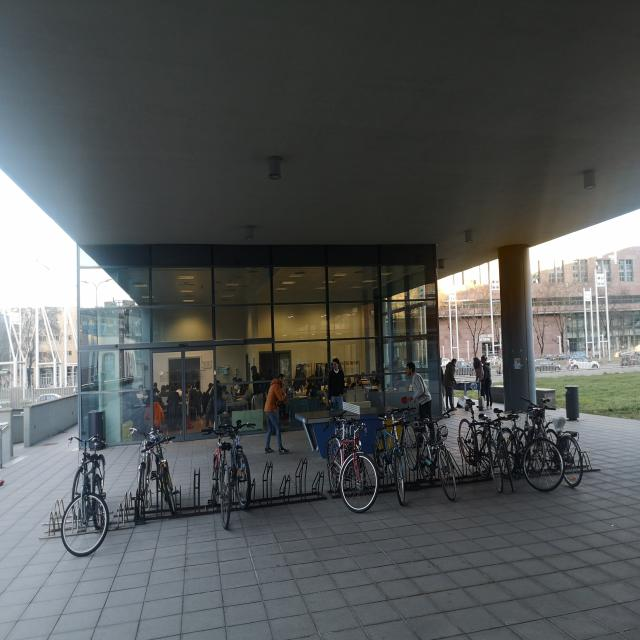Bicycle: (315, 409, 373, 535), (58, 429, 112, 563), (406, 398, 458, 500), (448, 398, 494, 488), (223, 420, 259, 526), (127, 426, 155, 548), (546, 385, 580, 482), (376, 400, 405, 512), (204, 422, 234, 524), (490, 394, 517, 479), (515, 392, 540, 482), (152, 432, 176, 518)
